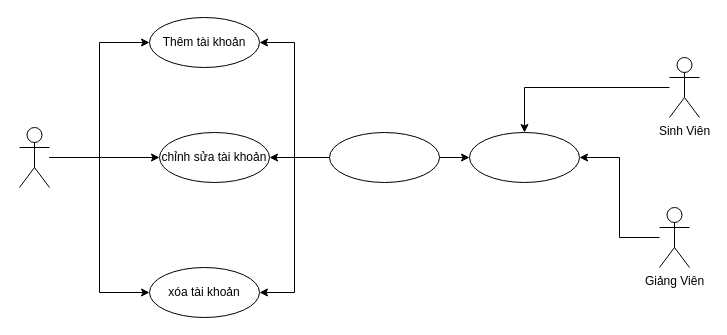
Some shapes in this 727 by 335 pixel diagram are drawn without their labels. The box of each missing label's shape, as (x1, y1, x2, y2) in pixels:
Admin: (18, 126, 50, 188)
lưu vào Data base: (328, 132, 440, 182)
Đăng kí tài khoản: (468, 132, 580, 182)
